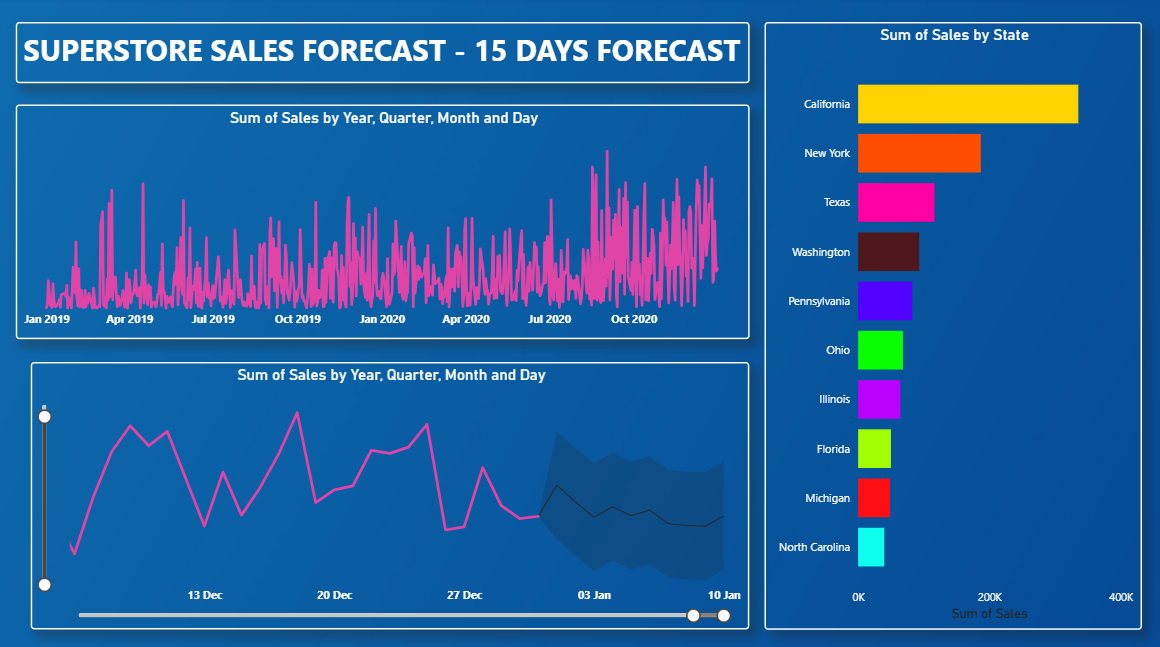

This screenshot's page, from the dashboard's own definition file:
{"tool":"powerbi","page":{"name":"Page 2","canvas":[1280,720],"ordinal":1},"visuals":[{"type":"lineChart","fields":{"Y":["Sum(SuperStore_Sales_Dataset.Sales)"],"Category":["SuperStore_Sales_Dataset.Order Date.Variation.Date Hierarchy.Year","SuperStore_Sales_Dataset.Order Date.Variation.Date Hierarchy.Quarter","SuperStore_Sales_Dataset.Order Date.Variation.Date Hierarchy.Month","SuperStore_Sales_Dataset.Order Date.Variation.Date Hierarchy.Day"]},"box":[20.6,118,805.5,258],"z":0},{"type":"lineChart","fields":{"Y":["Sum(SuperStore_Sales_Dataset.Sales)"],"Category":["SuperStore_Sales_Dataset.Order Date.Variation.Date Hierarchy.Year","SuperStore_Sales_Dataset.Order Date.Variation.Date Hierarchy.Quarter","SuperStore_Sales_Dataset.Order Date.Variation.Date Hierarchy.Month","SuperStore_Sales_Dataset.Order Date.Variation.Date Hierarchy.Day"]},"box":[37,400.7,789,293.7],"z":1000},{"type":"barChart","fields":{"Y":["Sum(SuperStore_Sales_Dataset.Sales)"],"Category":["SuperStore_Sales_Dataset.State"]},"box":[842.5,27.4,414.4,666.9],"z":1001},{"type":"textbox","box":[20.6,27.4,805.5,67.2],"z":1002}]}

Visuals, with their boxes in screenshot pixels (x1, y1, x2, y2), scaled from the page's 1280x720 canvas onto the 1160x647 screenshot:
lineChart - Sum(SuperStore_Sales_Dataset.Sales) x SuperStore_Sales_Dataset.Order Date.Variation.Date Hierarchy.Year: select_region(19, 106, 749, 338)
lineChart - Sum(SuperStore_Sales_Dataset.Sales) x SuperStore_Sales_Dataset.Order Date.Variation.Date Hierarchy.Year: select_region(34, 360, 749, 624)
barChart - Sum(SuperStore_Sales_Dataset.Sales) x SuperStore_Sales_Dataset.State: select_region(764, 25, 1139, 624)
textbox: select_region(19, 25, 749, 85)
